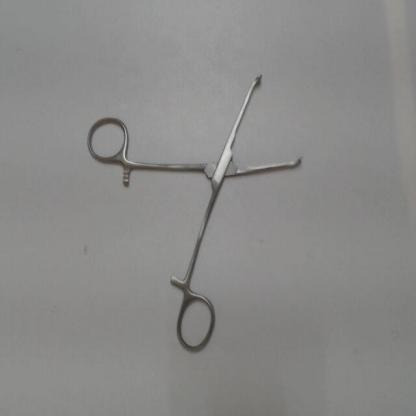Allis Tissue Forceps: (76, 63, 312, 359)
